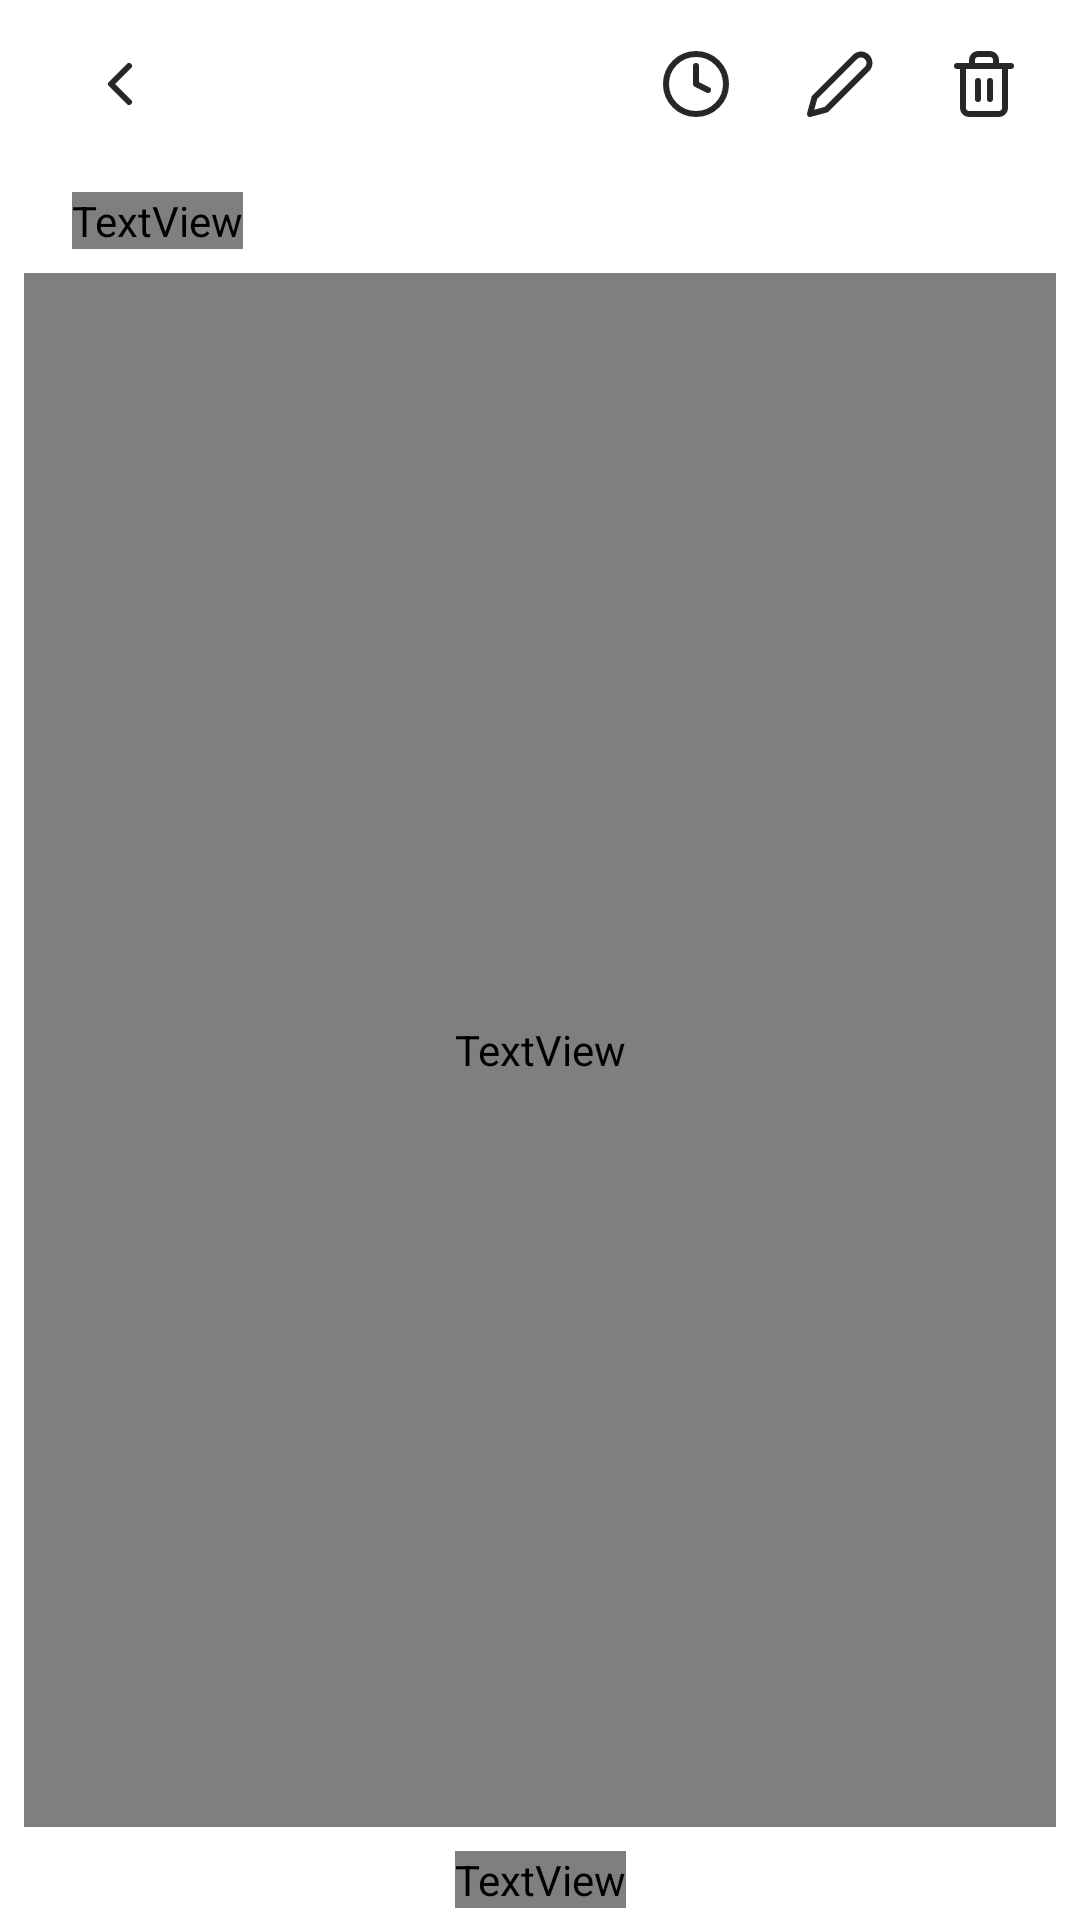

Locate icon controls on the screen. Image size 1080w x 1920h, boxes as (x1, y1, x2, y2).
back: (108, 63, 132, 105)
clock: (663, 51, 729, 117)
edit: (807, 51, 873, 117)
trash bin: (954, 51, 1014, 117)
